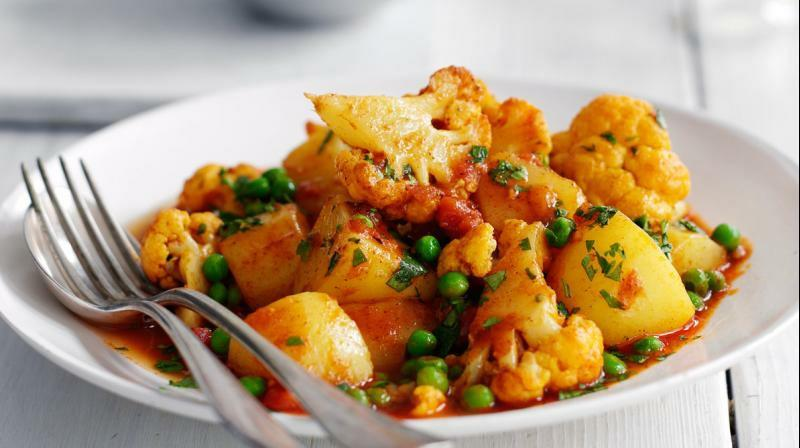AlooGobi: (141, 65, 753, 417)
